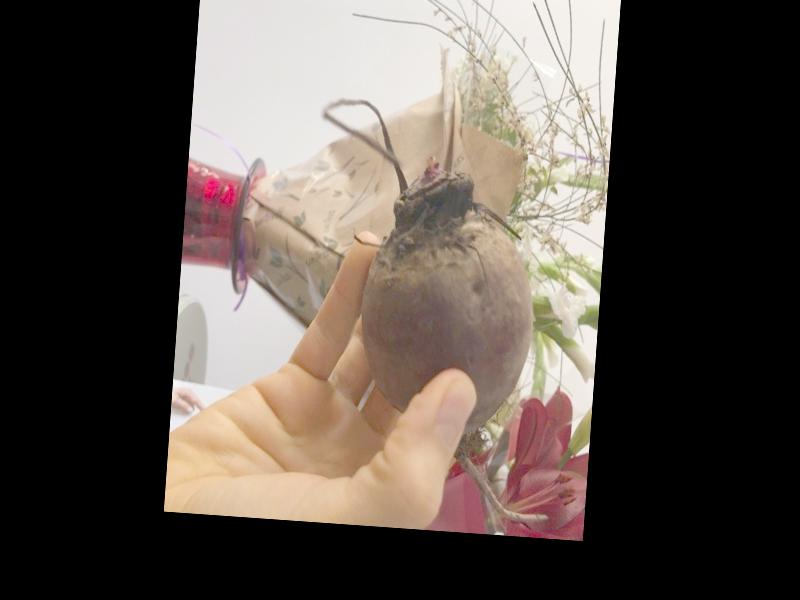Beet: (295, 96, 574, 521)
